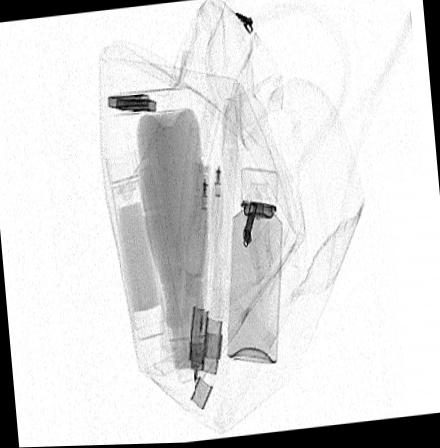Sprayer: (226, 168, 282, 365)
